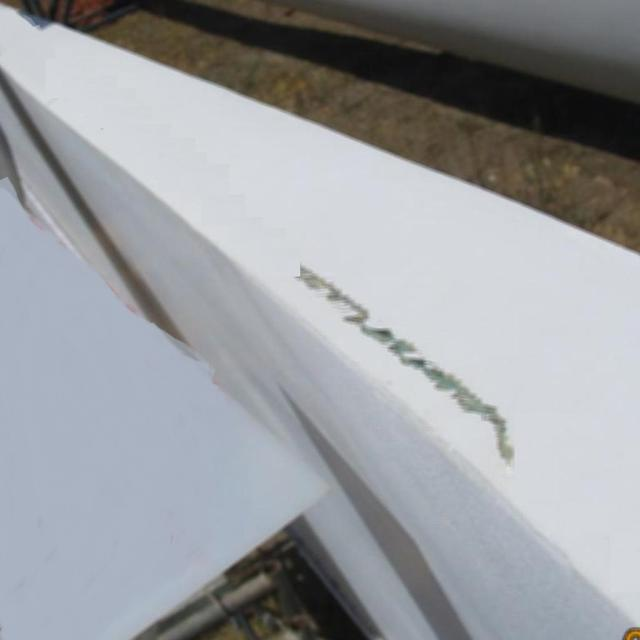crack: (309, 268, 512, 454)
